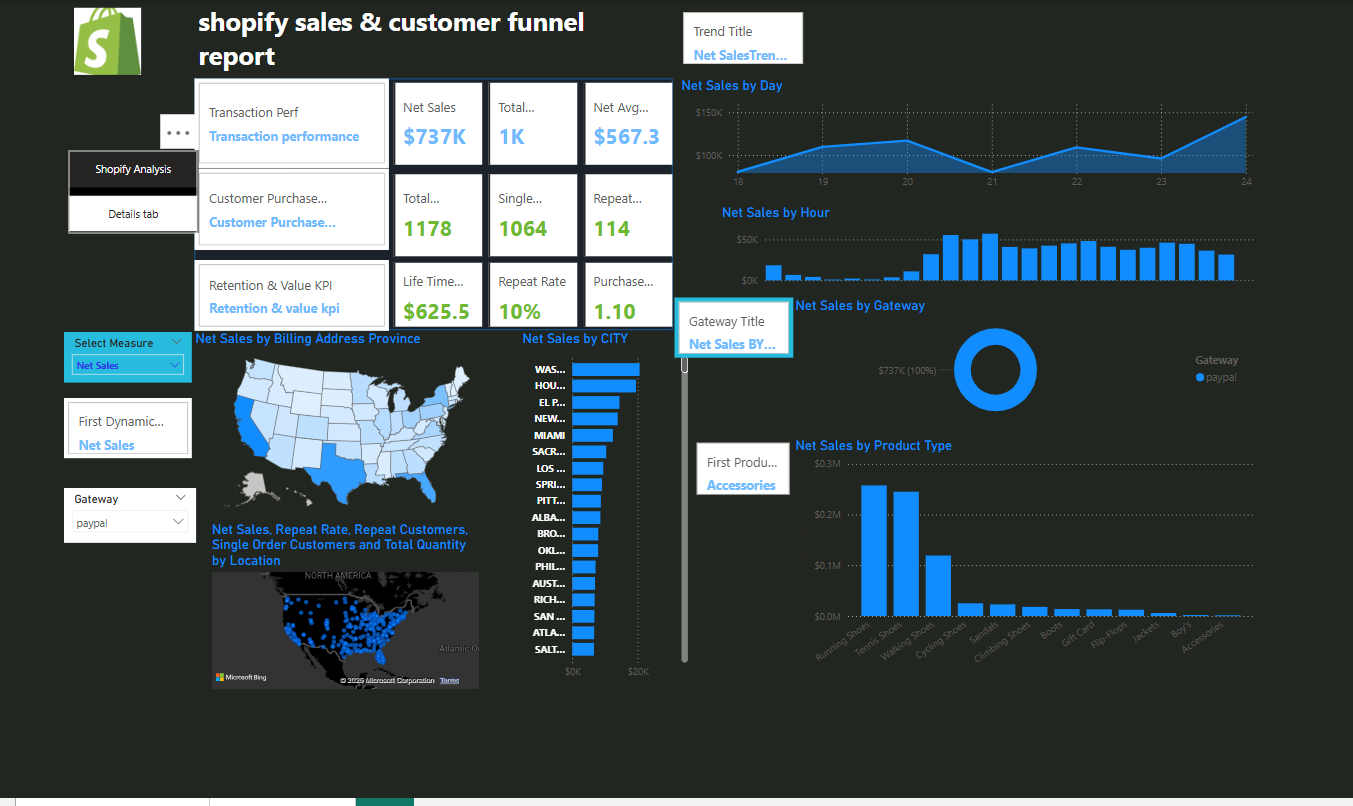

Layout of this report page (visuals, bound fields, positions):
{"tool":"powerbi","page":{"name":"Shopify Analysis","canvas":[1700,1000],"ordinal":0},"visuals":[{"type":"shape","box":[0,0,170,1000],"z":0},{"type":"textbox","box":[246,0,532.1,100.4],"z":1000},{"type":"shape","box":[246.7,100,598.3,315],"z":2000},{"type":"cardVisual","fields":{"Data":["shopify_sales.Net Sales","shopify_sales.Total Quantity","shopify_sales.Net Avg Order Value"]},"box":[490,100,361.7,113.3],"z":3000},{"type":"cardVisual","fields":{"Data":["shopify_sales.Transaction Perf"]},"box":[246.7,100,243.3,111.7],"z":4000},{"type":"cardVisual","fields":{"Data":["shopify_sales.Total Customers","shopify_sales.Single Order Customers","shopify_sales.Repeat Customers"]},"box":[490,213.3,360,113.3],"z":5000},{"type":"cardVisual","fields":{"Data":["shopify_sales.Customer Purchase Behaviour"]},"box":[246.7,211.7,243.3,101.7],"z":6000},{"type":"cardVisual","fields":{"Data":["shopify_sales.Life Time Value","shopify_sales.Repeat Rate","shopify_sales.Purchase Frequency"]},"box":[490,325,360,90],"z":7000},{"type":"cardVisual","fields":{"Data":["shopify_sales.Retention & Value KPI"]},"box":[246.7,326.7,243.3,88.3],"z":8000},{"type":"shapeMap","fields":{"Value":["shopify_sales.Net Sales"],"Category":["shopify_sales.Billing Address Province"]},"box":[241.7,415,388.3,235],"z":9000},{"type":"slicer","fields":{"Values":["Select Measure.Select Measure"]},"box":[81.7,416.7,160,63.3],"z":10000},{"type":"map","fields":{"Category":["shopify_sales.Location"]},"box":[263.4,653.6,343.9,215.2],"z":11000},{"type":"clusteredBarChart","fields":{"Y":["shopify_sales.Net Sales"],"Category":["shopify_sales.CITY"]},"box":[651.7,415,216.7,453.3],"z":12000},{"type":"cardVisual","fields":{"Data":["Min(Select Measure.Dynamic Title)"]},"box":[81.7,500,160,75],"z":13000},{"type":"areaChart","fields":{"Y":["shopify_sales.Net Sales"],"Category":["shopify_sales.Invoice Date.Variation.Date Hierarchy.Day"]},"box":[850.7,98.5,726,148.8],"z":14000},{"type":"clusteredColumnChart","fields":{"Y":["shopify_sales.Net Sales"],"Category":["shopify_sales.Hour"]},"box":[901,257.4,675.7,108.6],"z":15000},{"type":"cardVisual","fields":{"Data":["shopify_sales.Trend Title"]},"box":[851.7,11.7,160,75],"z":16000},{"type":"donutChart","fields":{"Y":["shopify_sales.Net Sales"],"Category":["shopify_sales.Gateway"]},"box":[993.5,374.1,583.2,160.9],"z":17000},{"type":"cardVisual","fields":{"Data":["shopify_sales.Gateway Title"]},"box":[846.7,373.3,148.3,75],"z":18000},{"type":"clusteredColumnChart","fields":{"Y":["shopify_sales.Net Sales"],"Category":["shopify_sales.Product Type"]},"box":[993.5,549,583.2,319.8],"z":19000},{"type":"cardVisual","fields":{"Data":["Min(shopify_sales.Product Type)"]},"box":[868.3,550,126.7,75],"z":20000},{"type":"image","box":[34.2,6,207.1,94.5],"z":21000},{"type":"slicer","fields":{"Values":["shopify_sales.Gateway"]},"box":[81.7,611.7,165,68.3],"z":22000},{"type":"pageNavigator","box":[87.5,190,162.5,102.5],"z":23000}]}

Visuals, with their boxes on the page's 1700x1000 design canvas (x1, y1, x2, y2). These are canvas units, not pixel positions in the 1353x806 screenshot, which may show the page scaled, cropped or inside an application window:
shape: box(0, 0, 170, 1000)
textbox: box(246, 0, 778, 100)
shape: box(247, 100, 845, 415)
cardVisual - shopify_sales.Net Sales x shopify_sales.Total Quantity: box(490, 100, 852, 213)
cardVisual - shopify_sales.Transaction Perf: box(247, 100, 490, 212)
cardVisual - shopify_sales.Total Customers x shopify_sales.Single Order Customers: box(490, 213, 850, 327)
cardVisual - shopify_sales.Customer Purchase Behaviour: box(247, 212, 490, 313)
cardVisual - shopify_sales.Life Time Value x shopify_sales.Repeat Rate: box(490, 325, 850, 415)
cardVisual - shopify_sales.Retention & Value KPI: box(247, 327, 490, 415)
shapeMap - shopify_sales.Net Sales x shopify_sales.Billing Address Province: box(242, 415, 630, 650)
slicer - Select Measure.Select Measure: box(82, 417, 242, 480)
map - shopify_sales.Location: box(263, 654, 607, 869)
clusteredBarChart - shopify_sales.Net Sales x shopify_sales.CITY: box(652, 415, 868, 868)
cardVisual - Min(Select Measure.Dynamic Title): box(82, 500, 242, 575)
areaChart - shopify_sales.Net Sales x shopify_sales.Invoice Date.Variation.Date Hierarchy.Day: box(851, 98, 1577, 247)
clusteredColumnChart - shopify_sales.Net Sales x shopify_sales.Hour: box(901, 257, 1577, 366)
cardVisual - shopify_sales.Trend Title: box(852, 12, 1012, 87)
donutChart - shopify_sales.Net Sales x shopify_sales.Gateway: box(994, 374, 1577, 535)
cardVisual - shopify_sales.Gateway Title: box(847, 373, 995, 448)
clusteredColumnChart - shopify_sales.Net Sales x shopify_sales.Product Type: box(994, 549, 1577, 869)
cardVisual - Min(shopify_sales.Product Type): box(868, 550, 995, 625)
image: box(34, 6, 241, 100)
slicer - shopify_sales.Gateway: box(82, 612, 247, 680)
pageNavigator: box(88, 190, 250, 292)
